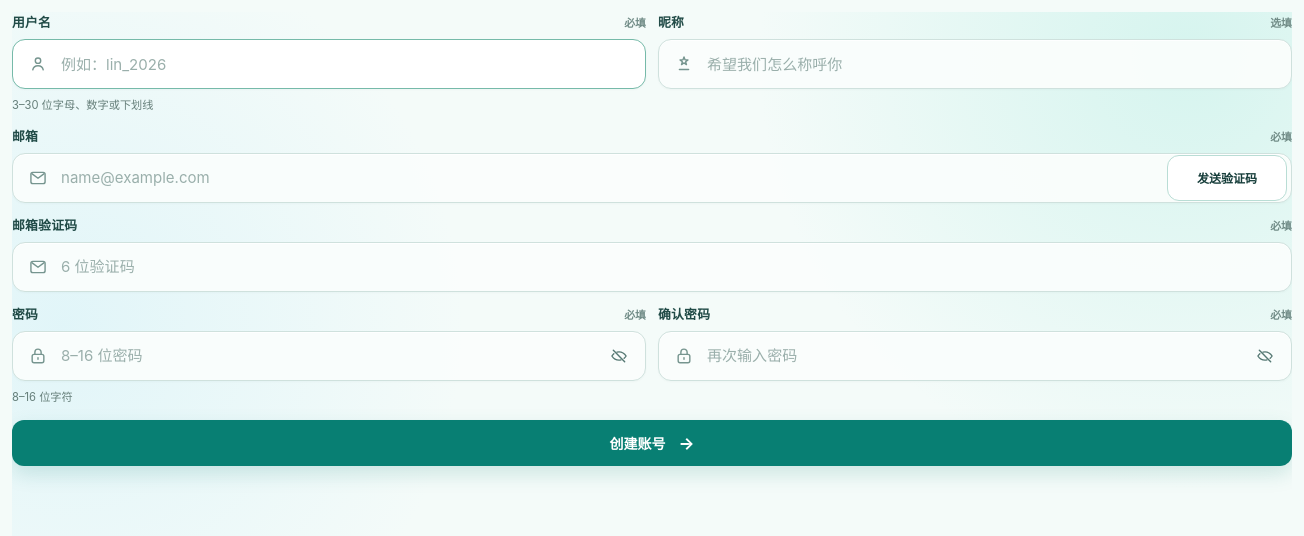
AuthForm › shows a friendly error when the email endpoint returns non-JSON
This screenshot has width=1304, height=536.
Type "user@example.com" into the field labelled "邮箱" at (652,178), box [12,153,1292,203]
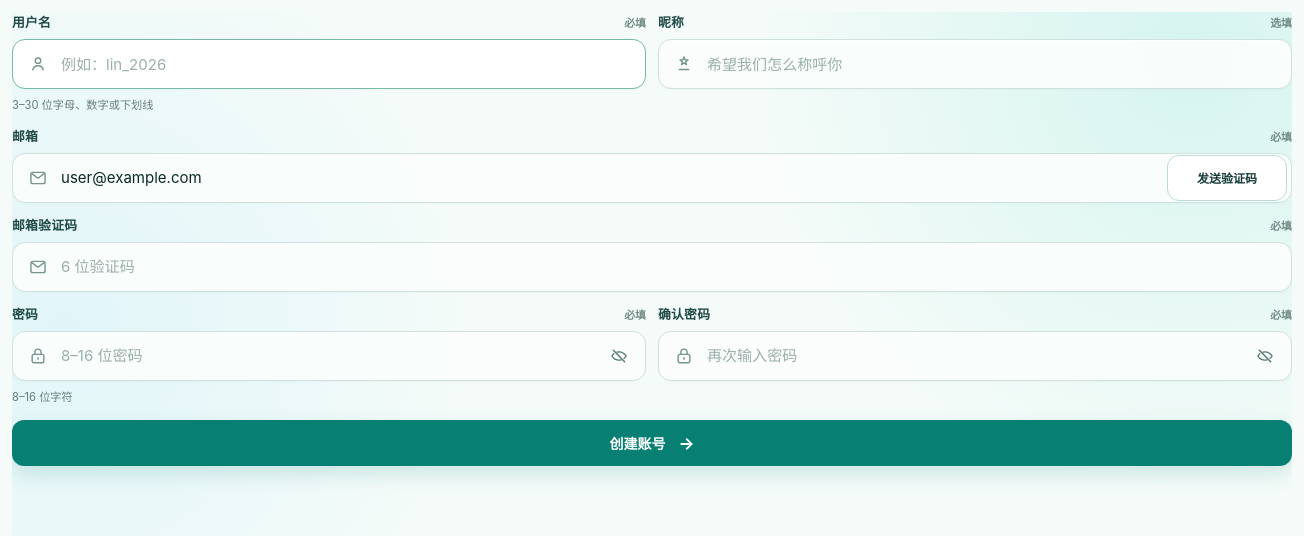
Click the button "发送验证码" at (1227,178), box [1167,155,1287,201]
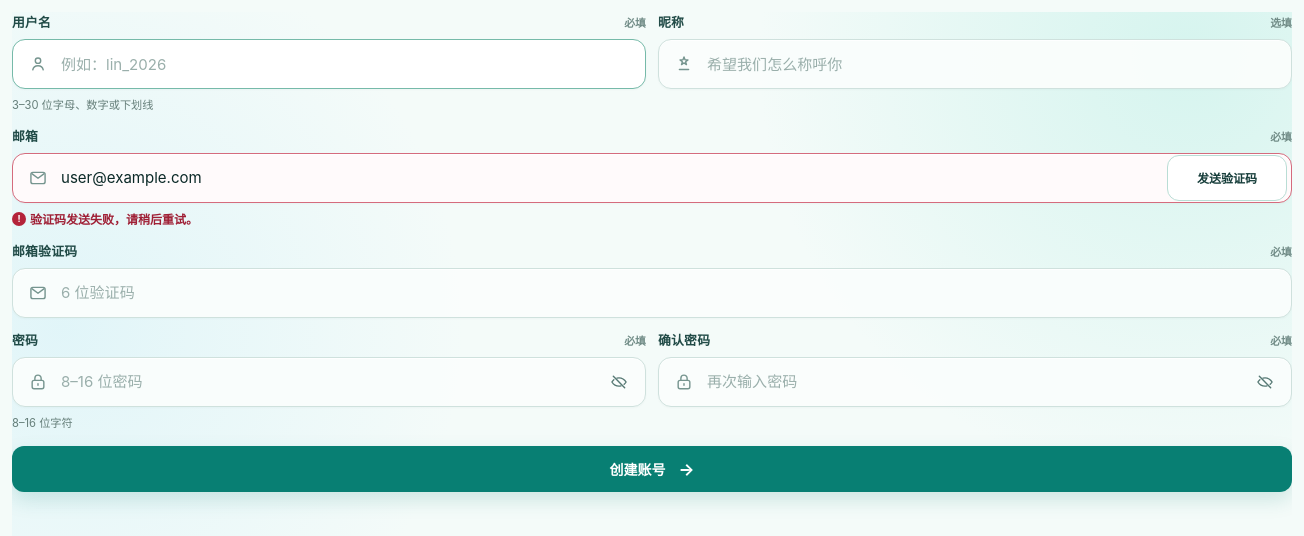
Result: the text "验证码发送失败，请稍后重试。" is shown at [30,212,198,227]
